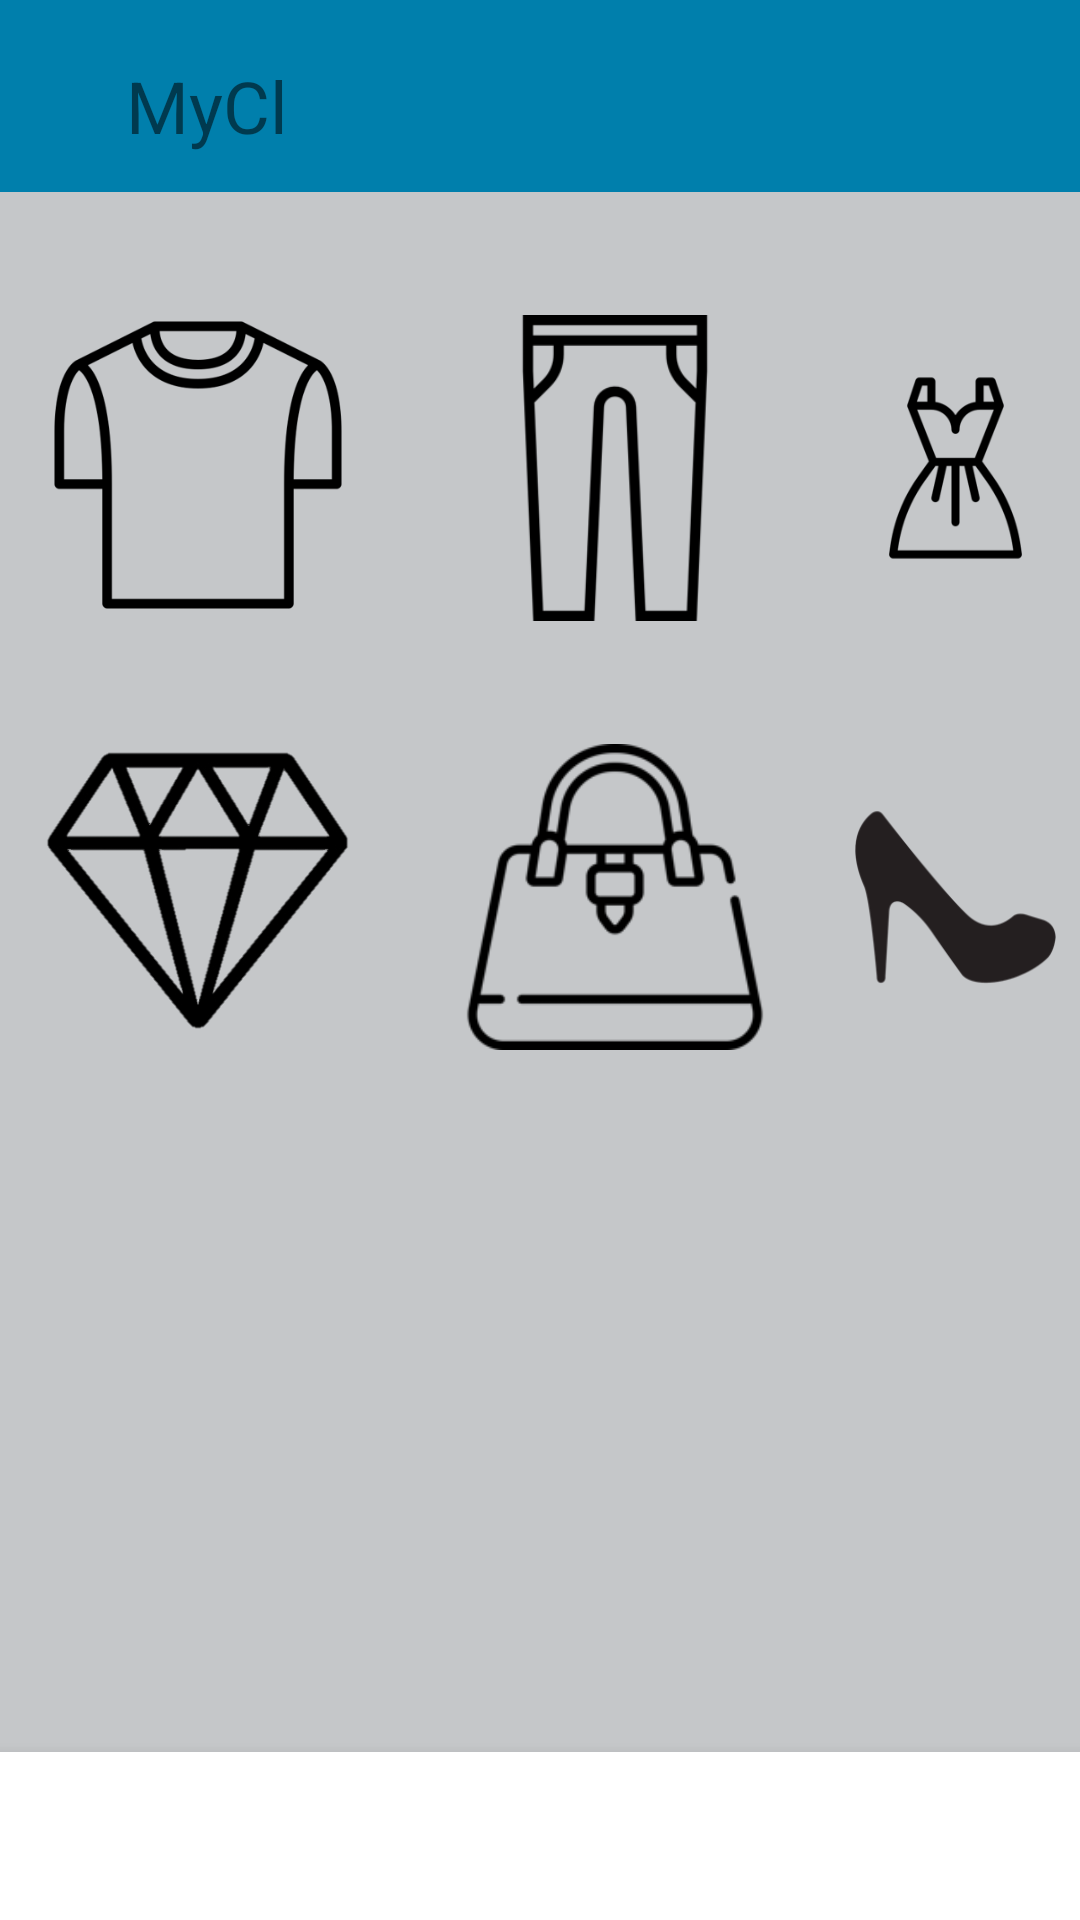

Icons on this 1080x1920 Android screen, each with its box as {"left": x1, "top": y1, "right": x2, "bottom": y2}:
acessories: {"left": 47, "top": 752, "right": 348, "bottom": 1029}
bags: {"left": 467, "top": 744, "right": 763, "bottom": 1050}
bottoms: {"left": 522, "top": 315, "right": 708, "bottom": 621}
dress: {"left": 889, "top": 377, "right": 1022, "bottom": 559}
shoes: {"left": 855, "top": 811, "right": 1056, "bottom": 983}
tops: {"left": 54, "top": 321, "right": 342, "bottom": 609}
